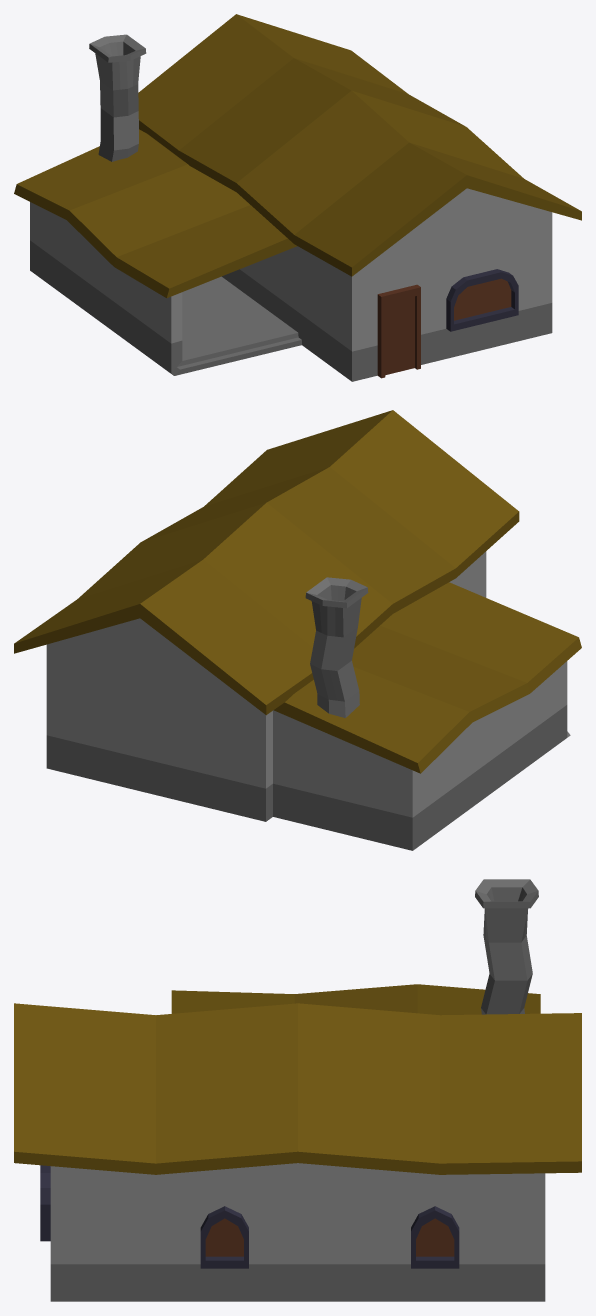
Rendered from Blacksmith.fbx.
3 views of the same model, one above another, from view 1: azimuth 30°, elevation 25°; view 2: azimuth 150°, elevation 25°; view 3: azimuth 270°, elevation 25° (orthographic). The views are drawn at different scales.
Parts seen in each view (by area): view 1: Blacksmith, Chamine, Porta_02, Janela; view 2: Blacksmith, Chamine; view 3: Blacksmith, Chamine, Janela.
Part boxes in pixels (x1,y1,x2,y2): Blacksmith: (14,14,581,381); Chamine: (89,34,146,161); Porta_02: (377,284,420,378); Janela: (446,269,518,331); Blacksmith: (14,410,581,850); Chamine: (305,577,368,717); Blacksmith: (14,984,581,1301); Chamine: (475,879,538,1014); Janela: (40,1165,459,1268).
Bounding box in the file's own units: 990 × 567 × 1117.
